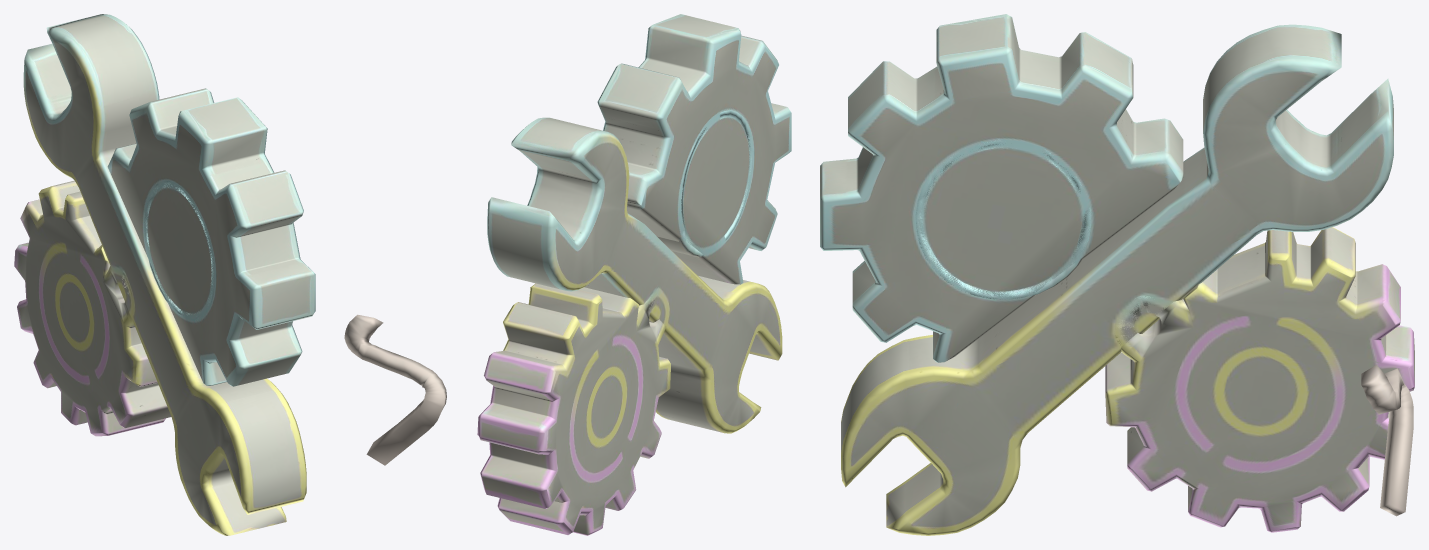
File: fix.glb
3 views of the same model, side by side, from view 1: azimuth 30°, elevation 25°; view 2: azimuth 150°, elevation 25°; view 3: azimuth 270°, elevation 25° (orthographic). The views are drawn at different scales.
Visible parts, largest first — view 1: tripo_node_13fa24c9-371b-4ded-b2fb-83c2b00e6c74; view 2: tripo_node_13fa24c9-371b-4ded-b2fb-83c2b00e6c74; view 3: tripo_node_13fa24c9-371b-4ded-b2fb-83c2b00e6c74.
Part boxes in pixels (box(x1,y1,x2,y2)): tripo_node_13fa24c9-371b-4ded-b2fb-83c2b00e6c74: box(14, 14, 315, 535); tripo_node_13fa24c9-371b-4ded-b2fb-83c2b00e6c74: box(344, 14, 791, 535); tripo_node_13fa24c9-371b-4ded-b2fb-83c2b00e6c74: box(820, 14, 1414, 535).
Bounding box in the file's own units: 0.4785 × 0.9043 × 0.998.
Materials: 1 (1 with a texture image).
